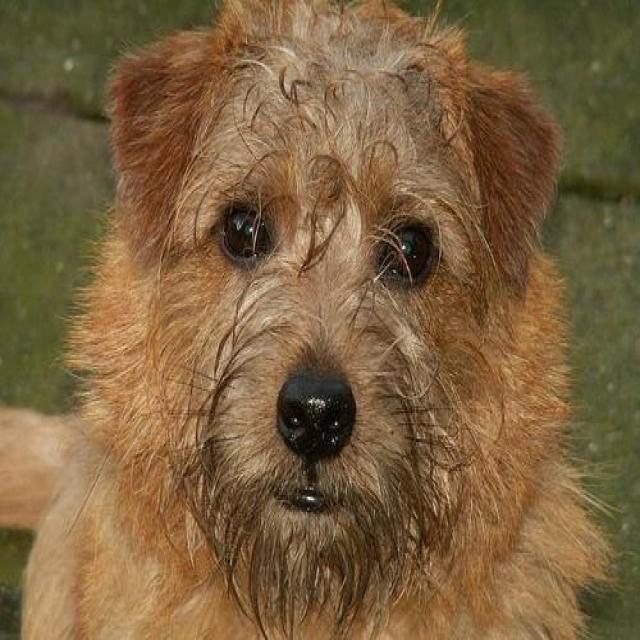dogs: (62, 9, 595, 628)
